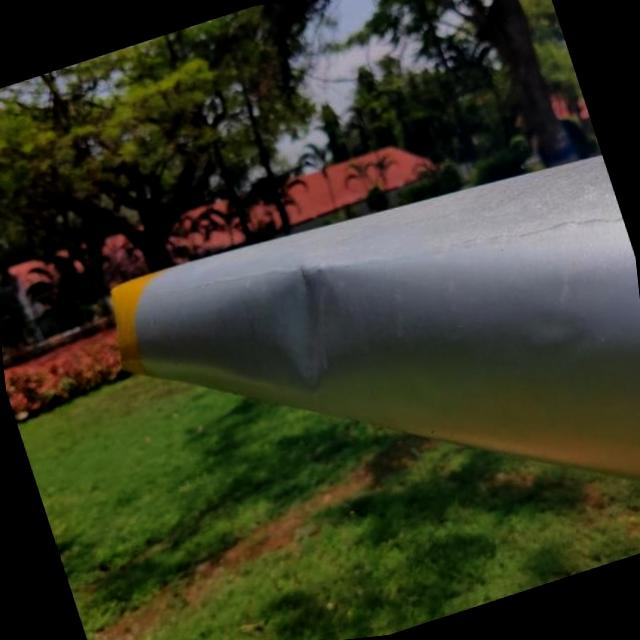dent: (235, 260, 356, 394)
